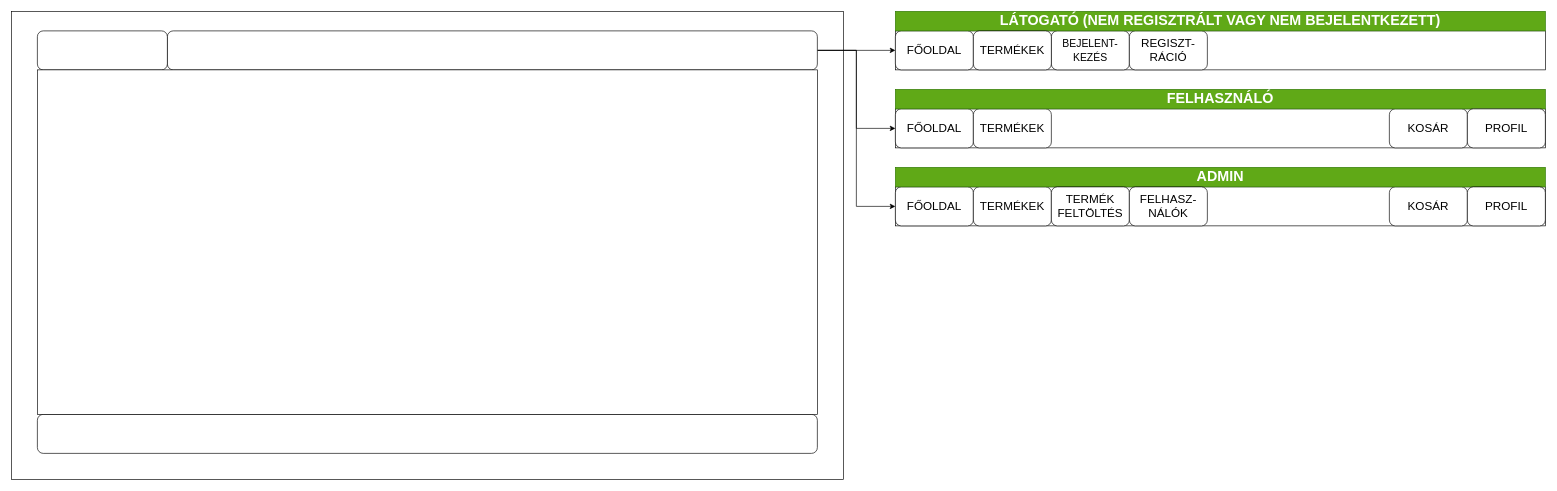
Image size: 1557x491. Some labels were removed from this diagram. The shapes that lost their labels are listed below. From the top down, each one's centre as x and y in pixels, then its label:
At [102,50]: "LOGÓ ÉS CÉGNÉV".
At [492,50]: "MENÜSÁV".
At [427,241]: "TARTALOM".
At [427,433]: "LÁBJEGYZET".
